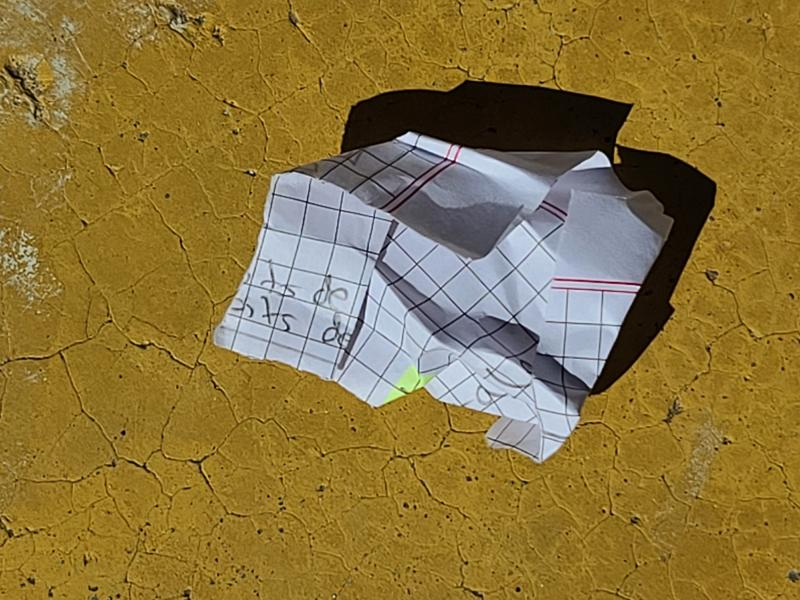papel: (212, 133, 669, 465)
